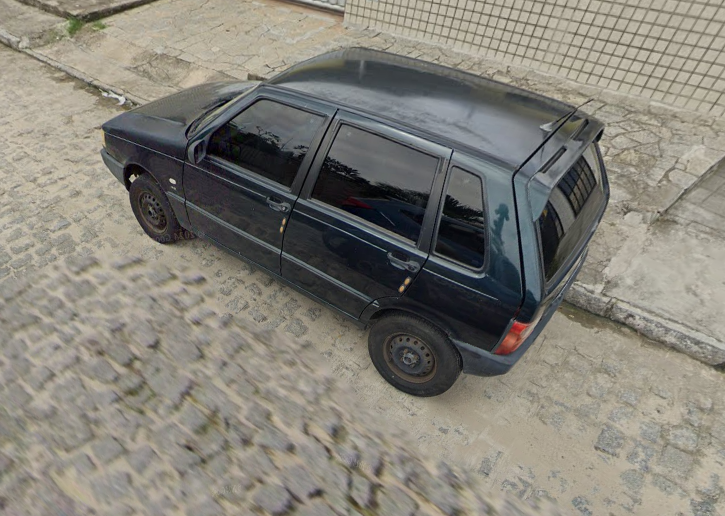car: (97, 45, 612, 404)
